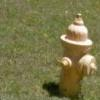a fire hydrant: (58, 12, 98, 100)
